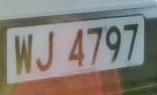4: (64, 25, 88, 69)
7: (85, 21, 105, 70), (121, 19, 142, 65)
9: (102, 21, 124, 68)
J: (33, 27, 59, 77)
W: (11, 29, 36, 81)
